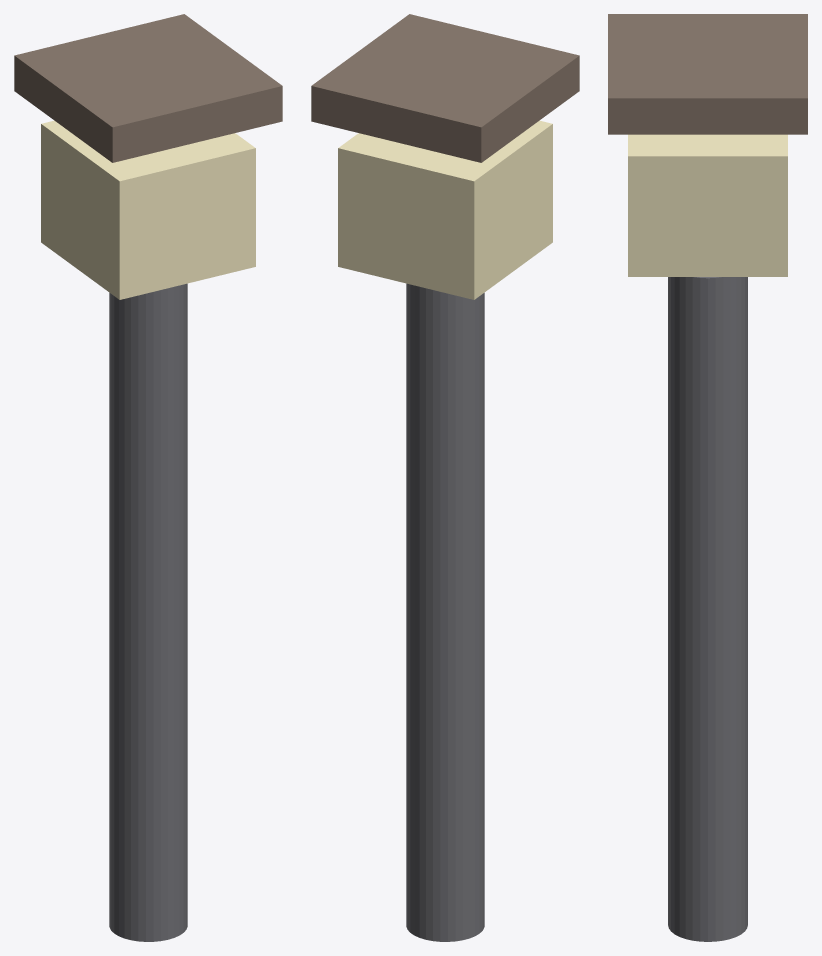
File: pickup.garden-lamp.v1.glb
The picture shows the model from 3 angles, left to right: view 1: azimuth 30°, elevation 25°; view 2: azimuth 150°, elevation 25°; view 3: azimuth 270°, elevation 25°; orthographic projection.
Visible parts, largest first — view 1: pickup.garden-lamp.v1_post, pickup.garden-lamp.v1_lamp, pickup.garden-lamp.v1_roof; view 2: pickup.garden-lamp.v1_post, pickup.garden-lamp.v1_lamp, pickup.garden-lamp.v1_roof; view 3: pickup.garden-lamp.v1_post, pickup.garden-lamp.v1_roof, pickup.garden-lamp.v1_lamp.
Boxes of the visible parts, x1=… form: pickup.garden-lamp.v1_post: x1=109, y1=283, x2=187, y2=941; pickup.garden-lamp.v1_lamp: x1=41, y1=120, x2=255, y2=299; pickup.garden-lamp.v1_roof: x1=14, y1=14, x2=282, y2=162; pickup.garden-lamp.v1_post: x1=406, y1=283, x2=484, y2=941; pickup.garden-lamp.v1_lamp: x1=338, y1=120, x2=552, y2=299; pickup.garden-lamp.v1_roof: x1=311, y1=14, x2=579, y2=162; pickup.garden-lamp.v1_post: x1=668, y1=277, x2=747, y2=941; pickup.garden-lamp.v1_roof: x1=608, y1=14, x2=807, y2=134; pickup.garden-lamp.v1_lamp: x1=628, y1=134, x2=787, y2=276.
Size of the model in its own units: 0.15 by 0.72 by 0.15.
